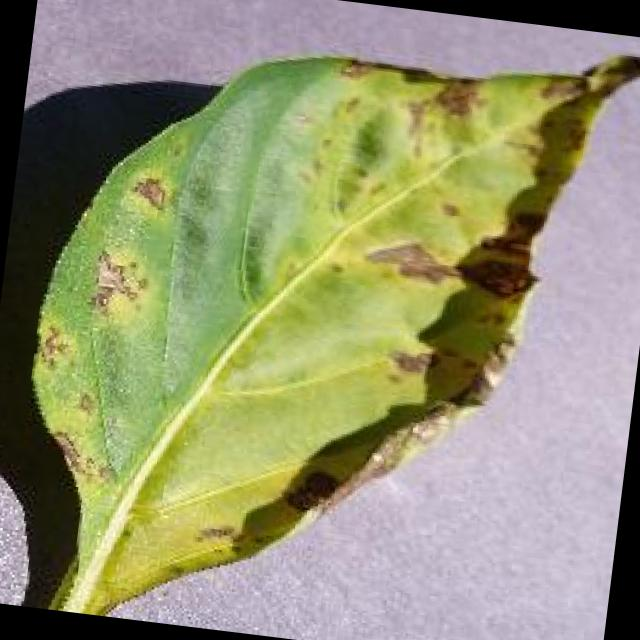Chilli_Bacterial_Spot: (0, 0, 640, 640), (80, 162, 177, 332), (358, 230, 466, 292), (81, 242, 155, 326), (450, 244, 542, 306), (573, 42, 640, 107), (276, 462, 342, 520), (30, 318, 78, 373), (125, 168, 172, 216), (186, 515, 242, 554)
